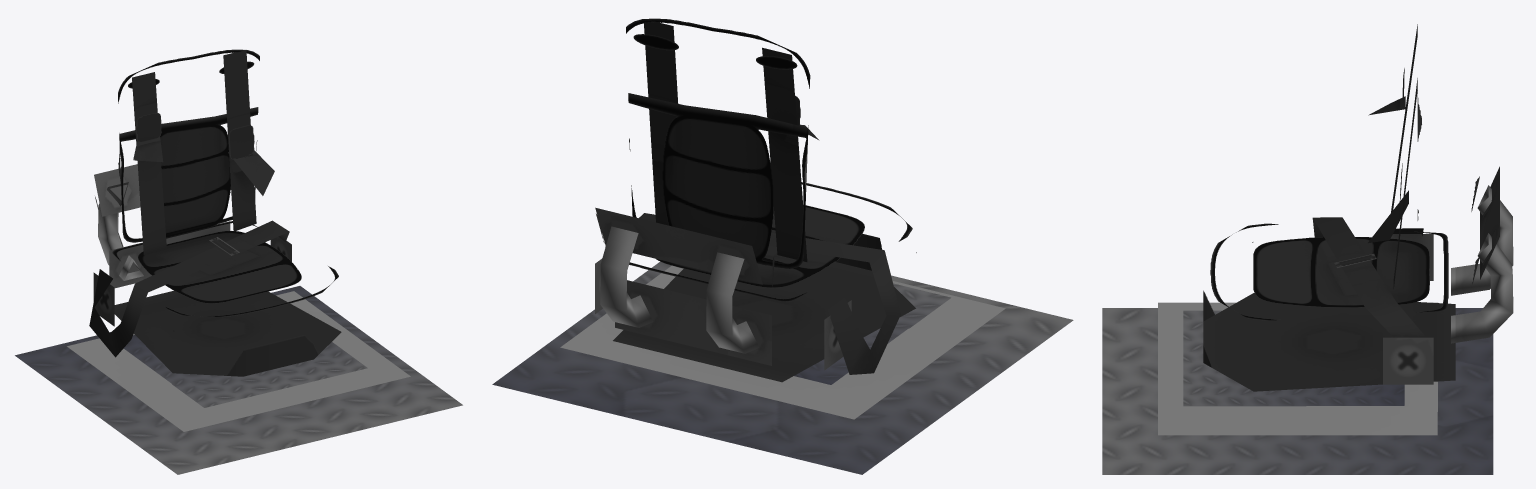
The model's file is obj_interactive_seat_02_lod1.fbx.
The picture shows the model from 3 angles, left to right: view 1: azimuth 30°, elevation 25°; view 2: azimuth 150°, elevation 25°; view 3: azimuth 270°, elevation 25°; orthographic projection. The views are drawn at different scales.
Parts seen in each view (by area): view 1: obj_interactive_seat_05; view 2: obj_interactive_seat_05; view 3: obj_interactive_seat_05.
Part boxes in pixels (x1,y1,x2,y2): obj_interactive_seat_05: [15, 49, 462, 474]; obj_interactive_seat_05: [492, 18, 1073, 474]; obj_interactive_seat_05: [1102, 24, 1513, 474].
Bounding box in the file's own units: 3.5 × 3.45 × 3.71.
Materials: 1 (1 with a texture image).
